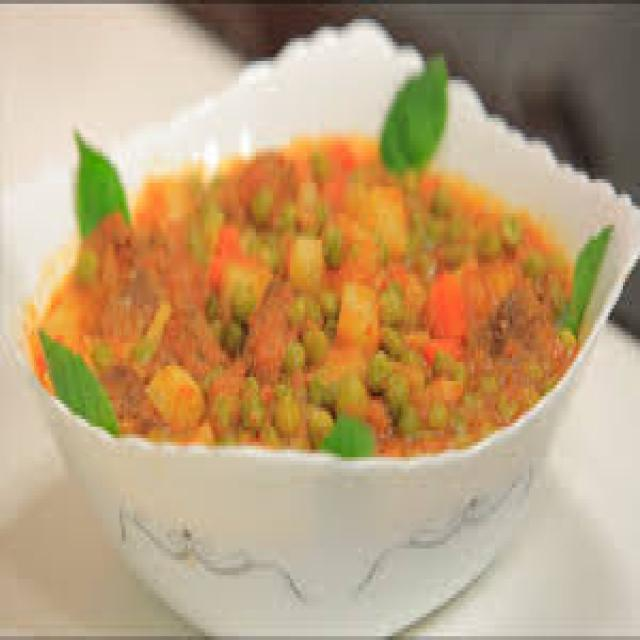besala: (44, 134, 579, 452)
